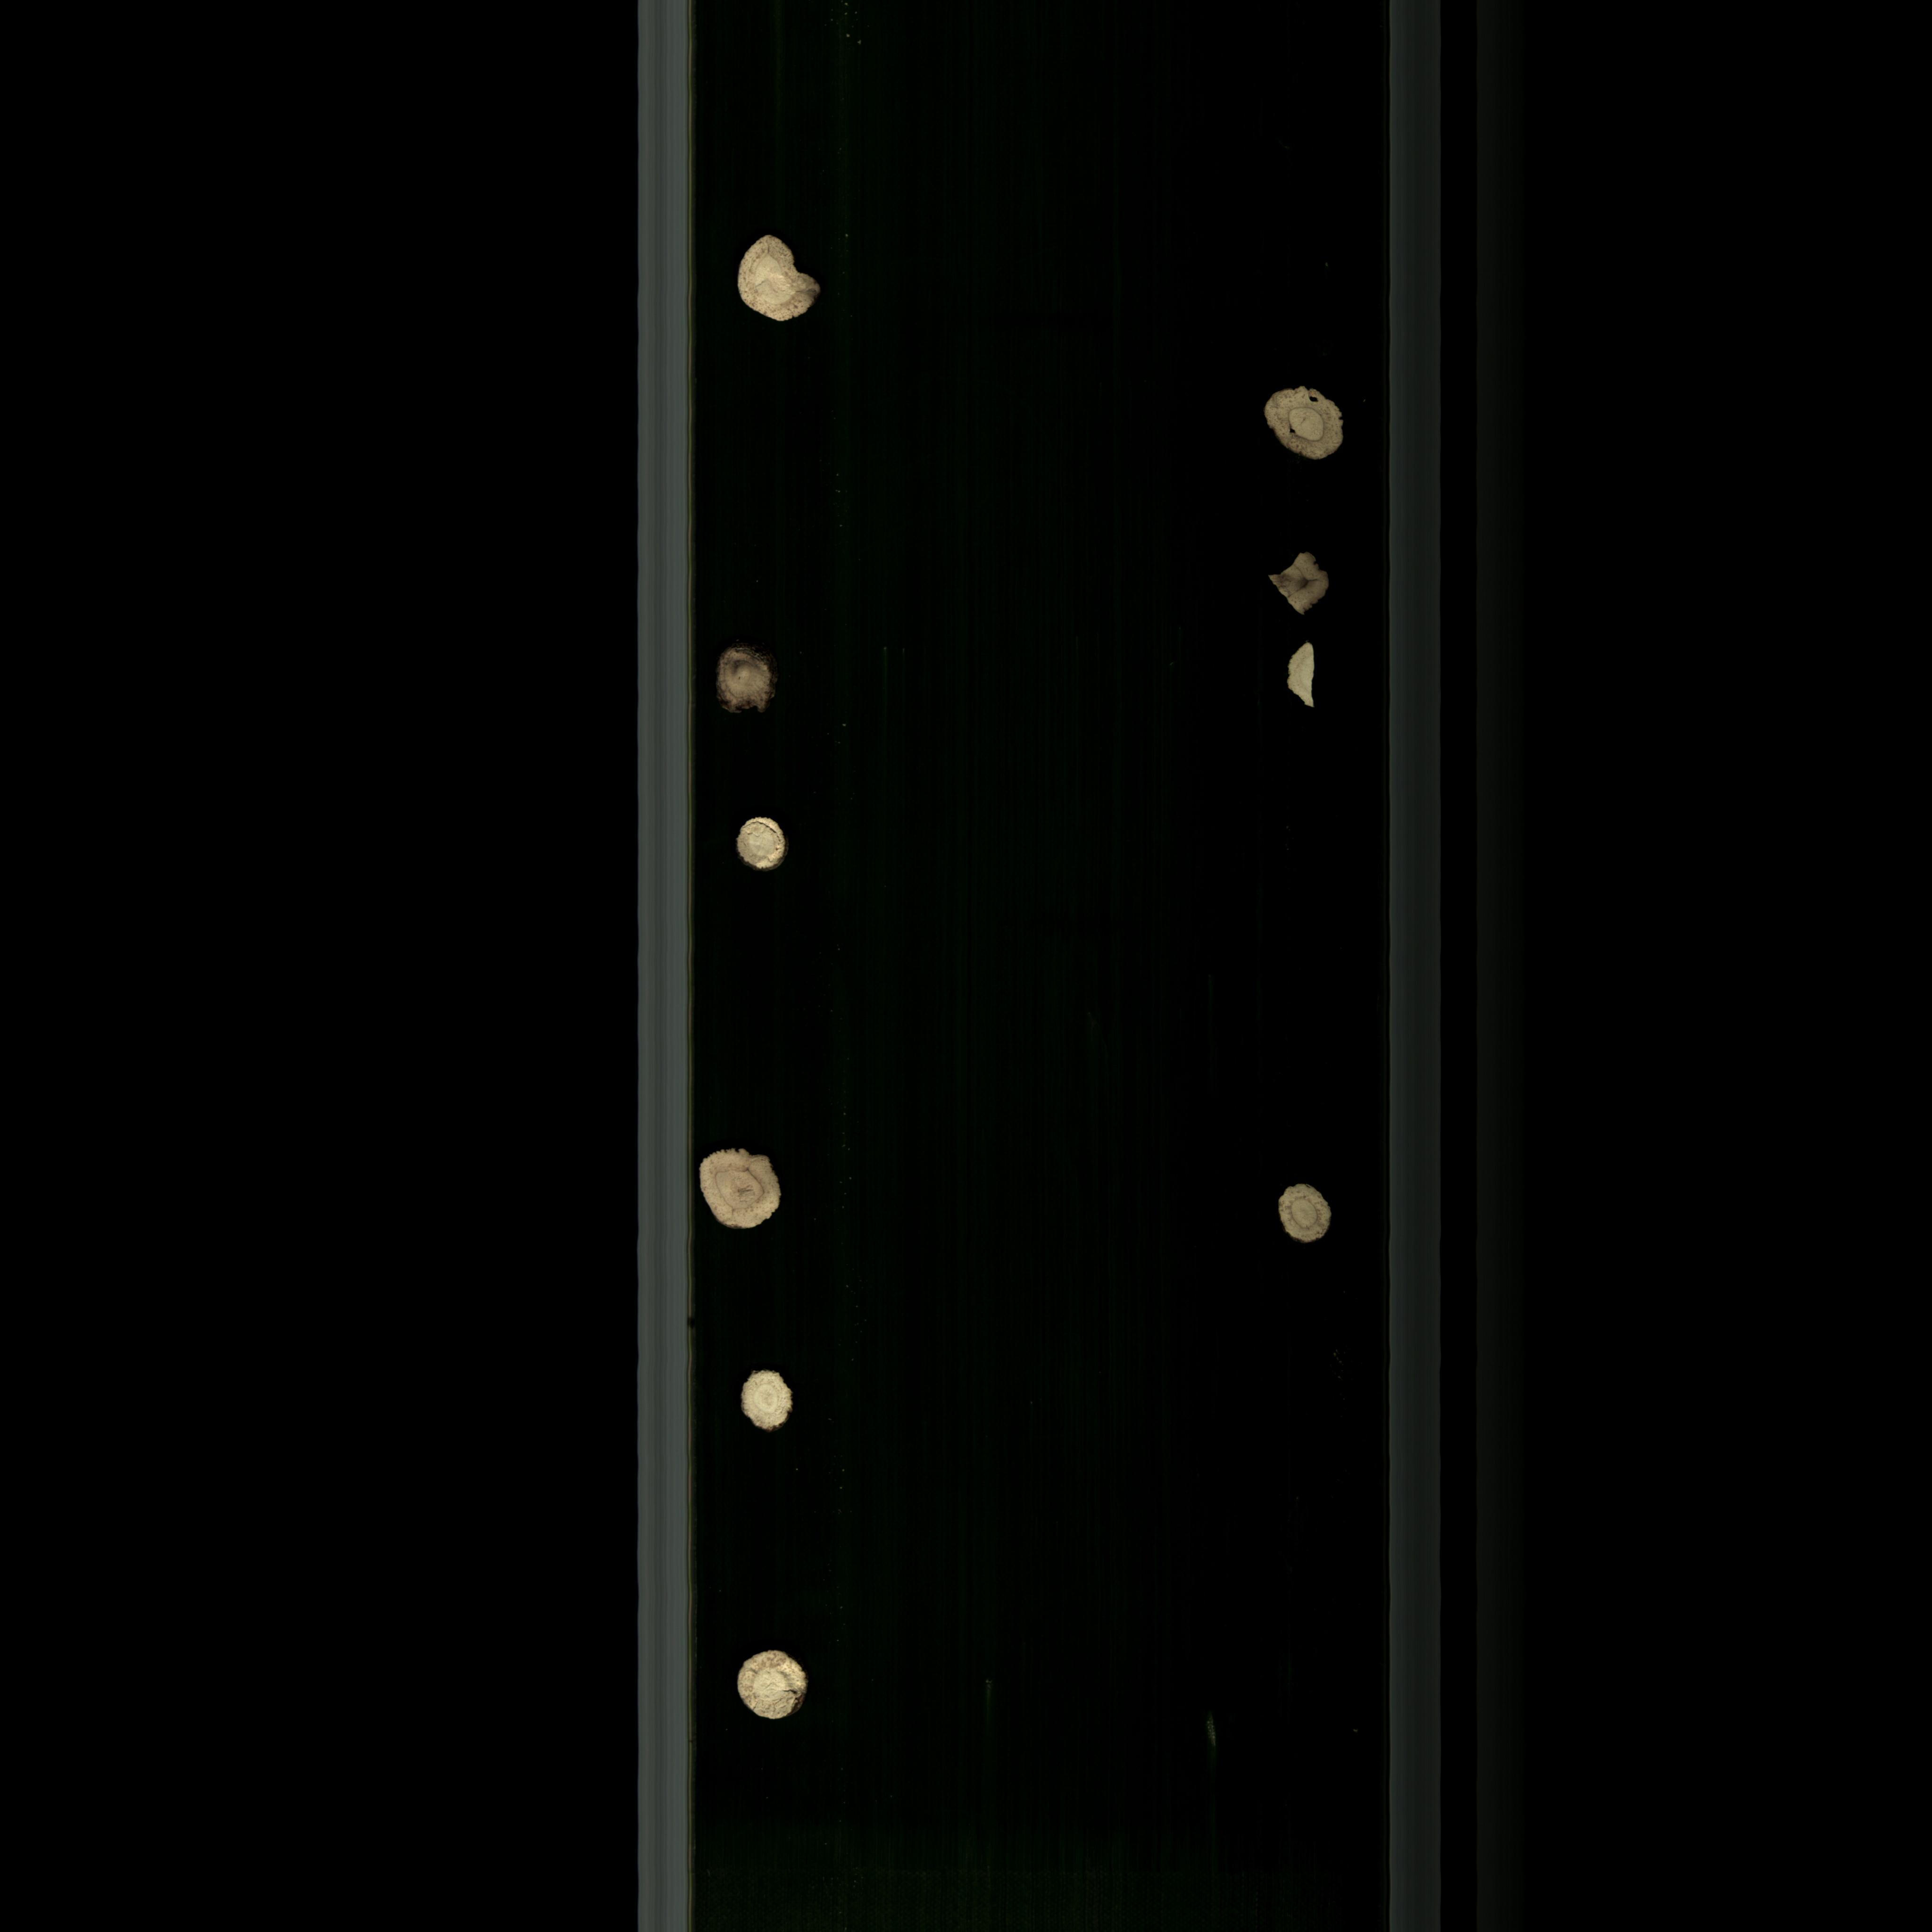debris: (1277, 635, 1330, 718)
distortion: (729, 223, 835, 336)
hole: (1254, 373, 1355, 472)
moldy: (704, 639, 784, 725), (1253, 548, 1343, 621)
